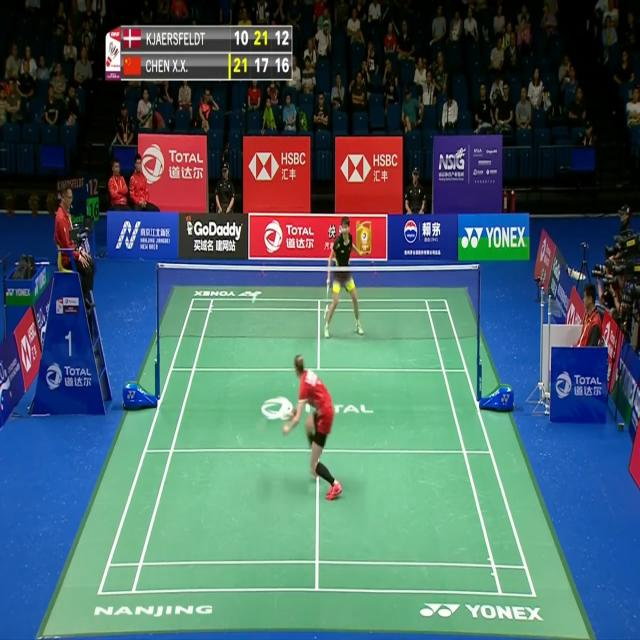Player1: (280, 348, 354, 510)
Player2: (322, 213, 368, 336)
